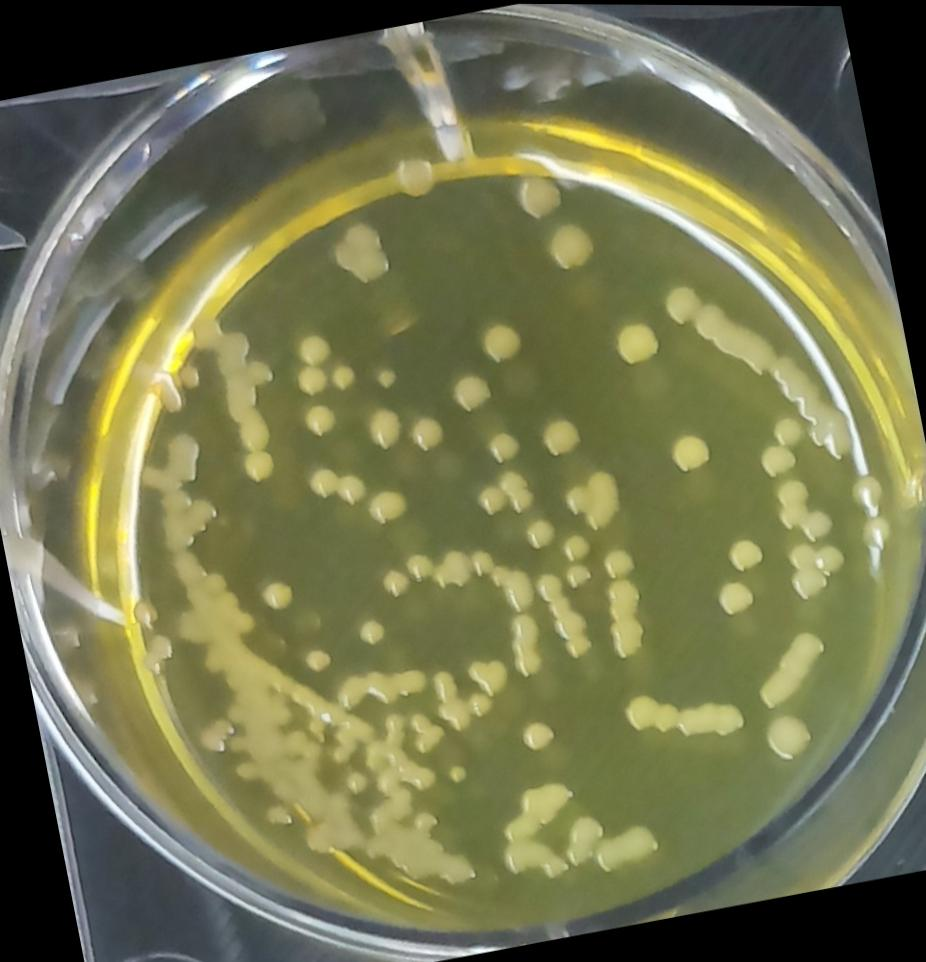vharveyi: (536, 210, 605, 281), (506, 159, 572, 225), (605, 309, 671, 372)
